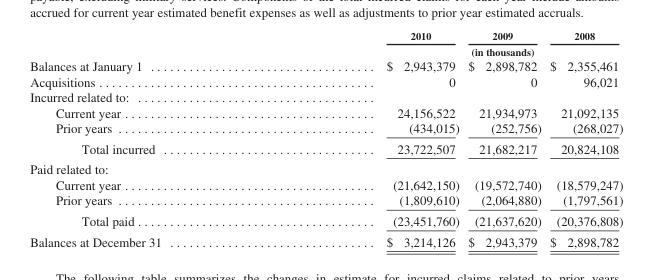table: (29, 29, 622, 248)
table column: (29, 29, 273, 248), (273, 29, 463, 248), (463, 29, 545, 248), (545, 29, 622, 248)
table column header: (29, 29, 622, 57)
table projected row header: (29, 158, 622, 176), (29, 88, 622, 104)
table row: (29, 137, 622, 158), (29, 210, 622, 230), (29, 119, 622, 137), (29, 158, 622, 176), (29, 192, 622, 210), (29, 230, 622, 248), (29, 57, 622, 73), (29, 88, 622, 104), (29, 176, 622, 192), (29, 73, 622, 88), (29, 104, 622, 119), (29, 29, 622, 43), (29, 43, 622, 57)
table spanning cell: (273, 43, 622, 57)
